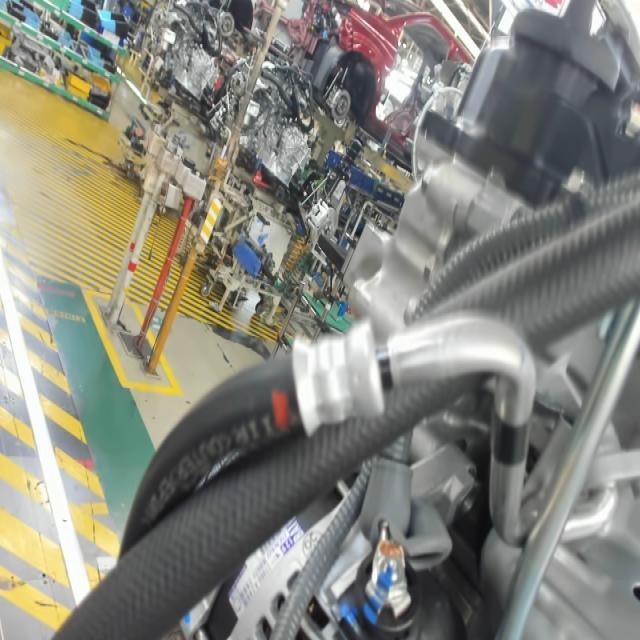Alternator-BA1: (280, 518, 304, 554)
Hose Discharge-HT: (491, 403, 532, 474)
